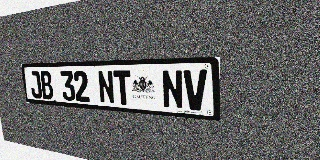2: (73, 71, 90, 102)
3: (60, 71, 76, 101)
B: (39, 71, 54, 100)
J: (29, 71, 43, 99)
N: (161, 70, 184, 109), (97, 70, 115, 104)
T: (113, 70, 132, 105)
V: (183, 70, 207, 111)
